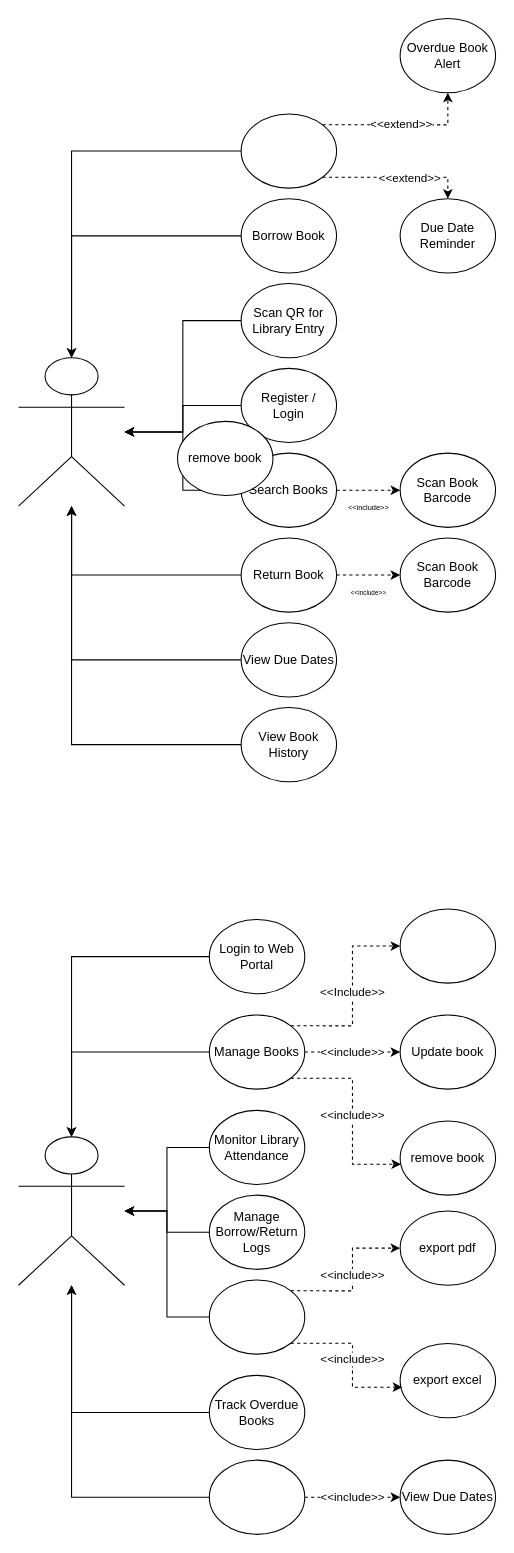
This 514x1553 diagram has some shape labels left out. The centre of each missing label's shape, as x and y in pixels:
Add book: the point at 447,945
Admin/Librarian: the point at 71,1210
Generate Reports: the point at 256,1316
Manage Student Accounts: the point at 256,1496
Receive Notifications: the point at 288,150
Student: the point at 71,431
